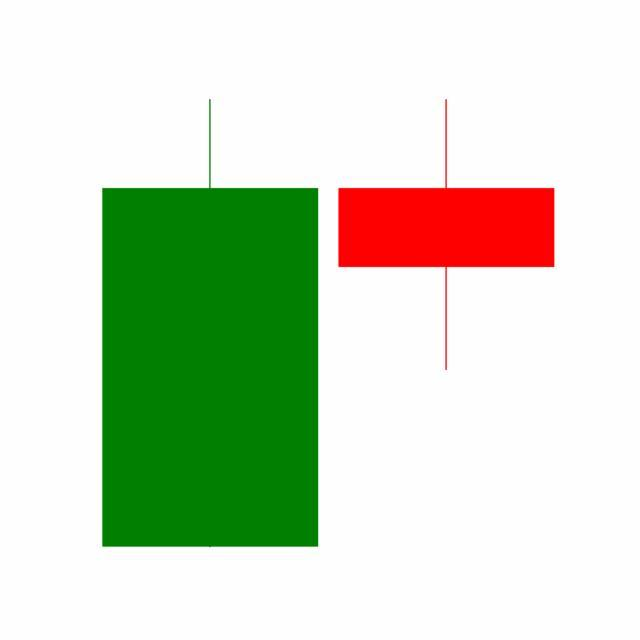Spinning Top: (328, 97, 566, 374)
